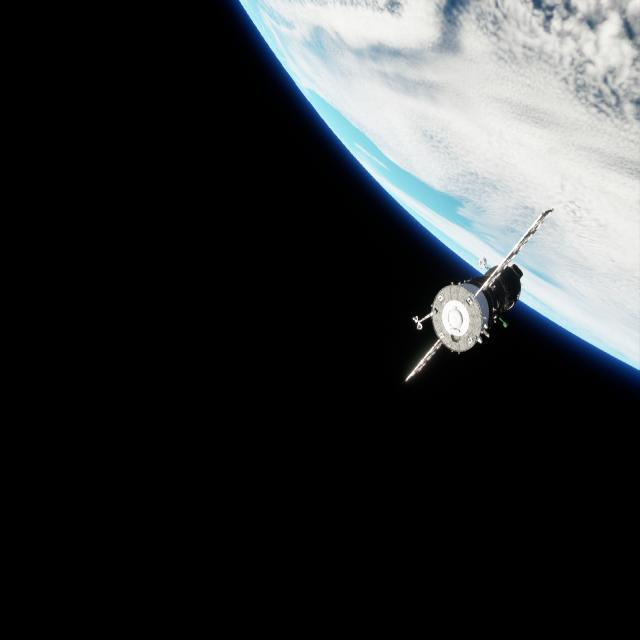Satellites revolving around earth: (402, 206, 556, 386)
